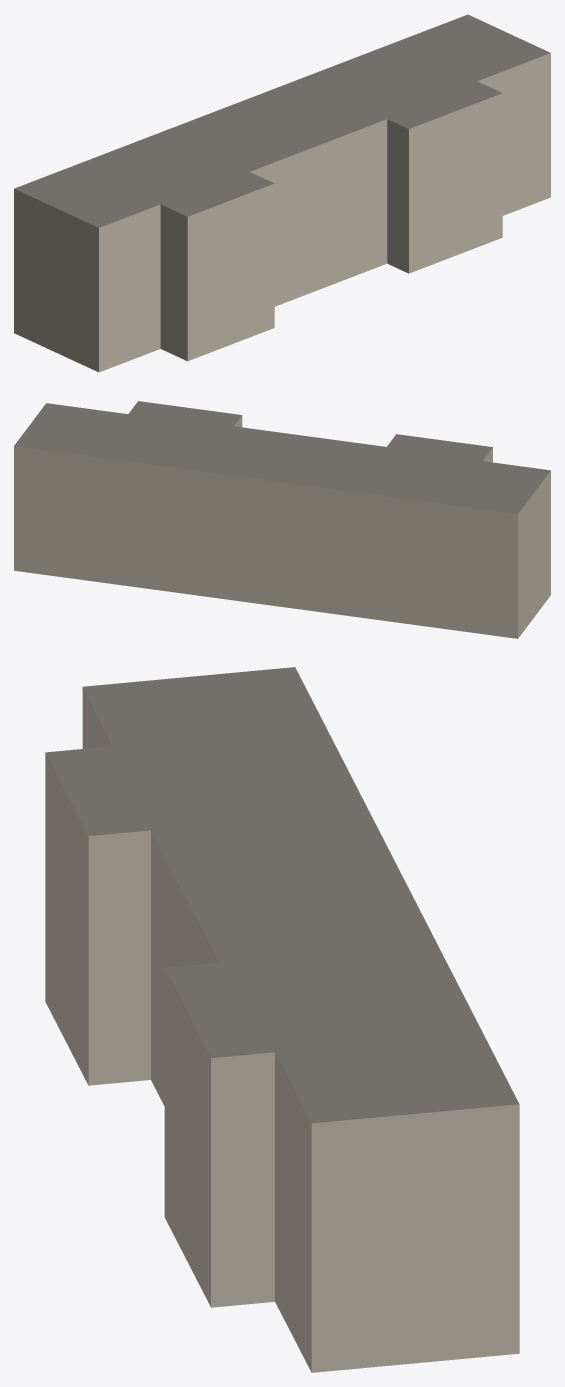
The picture shows the model from 3 angles, top to bottom: view 1: azimuth 30°, elevation 25°; view 2: azimuth 150°, elevation 25°; view 3: azimuth 270°, elevation 25°; orthographic projection. The views are drawn at different scales.
Visible parts, largest first — view 1: HP-w299010048; view 2: HP-w299010048; view 3: HP-w299010048.
Part boxes in pixels (x1=…): HP-w299010048: x1=14, y1=14, x2=550, y2=372; HP-w299010048: x1=14, y1=401, x2=550, y2=638; HP-w299010048: x1=45, y1=667, x2=519, y2=1372.
Size of the model in its own units: 70.62 by 18 by 31.
